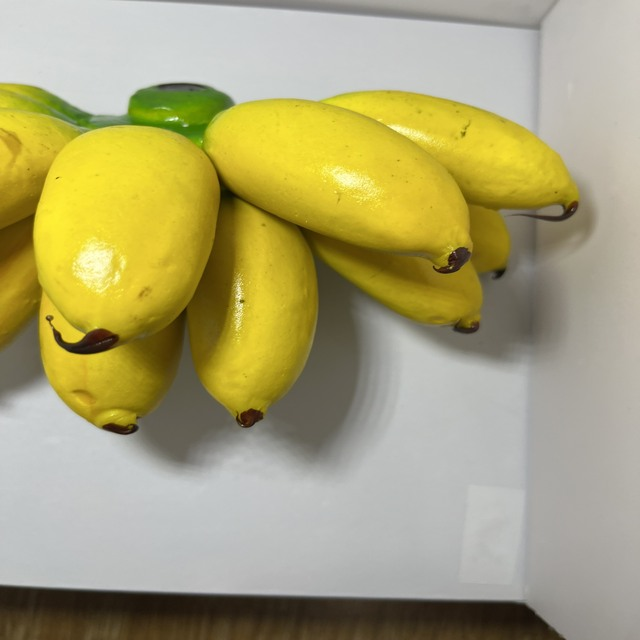Chuoi: (0, 73, 583, 442)
